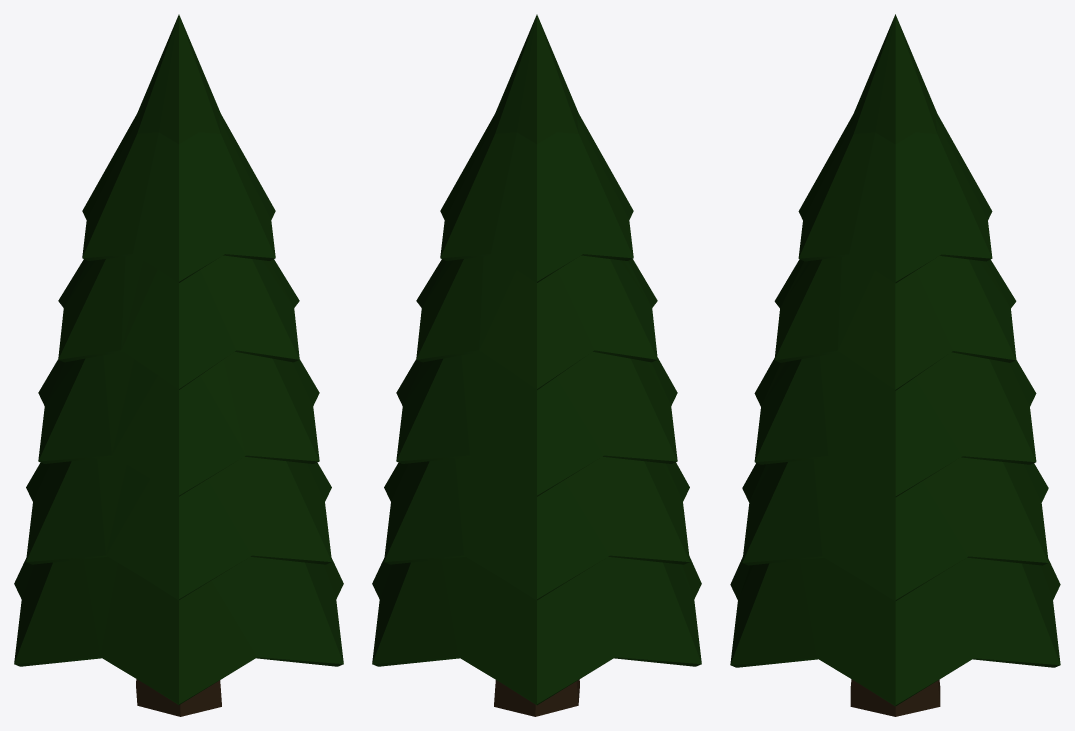
The model's file is tree2.FBX.
3 renders of one model, left to right at view 1: azimuth 30°, elevation 25°; view 2: azimuth 150°, elevation 25°; view 3: azimuth 270°, elevation 25°, orthographic.
Visible parts, largest first — view 1: Cylinder002; view 2: Cylinder002; view 3: Cylinder002.
Part boxes in pixels (<box>): Cylinder002: <box>14,14,343,716</box>; Cylinder002: <box>372,14,701,716</box>; Cylinder002: <box>730,14,1060,716</box>.
Size of the model in its own units: 42.87 by 84.65 by 37.12.
